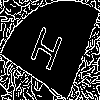H: (25, 24, 64, 82)
